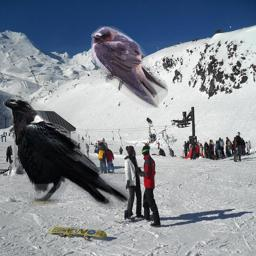Crow: (3, 93, 131, 209)
Swallow: (90, 26, 168, 108)
